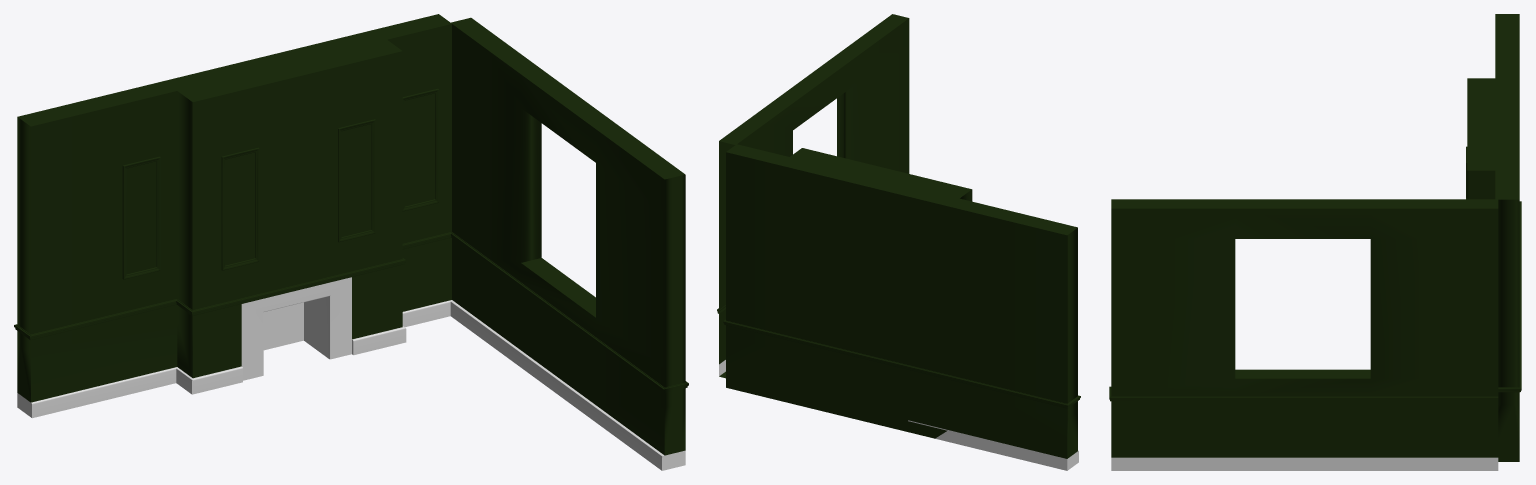
Rendered from Walls.fbx.
3 views of the same model, side by side, from view 1: azimuth 30°, elevation 25°; view 2: azimuth 150°, elevation 25°; view 3: azimuth 270°, elevation 25° (orthographic). The views are drawn at different scales.
Visible parts, largest first — view 1: polySurface42; view 2: polySurface42; view 3: polySurface42.
Part boxes in pixels (box(x1,y1,x2,y2)): polySurface42: box(14, 14, 688, 470); polySurface42: box(717, 14, 1080, 470); polySurface42: box(1109, 14, 1521, 470).
Size of the model in its own units: 620 by 386 by 550.
